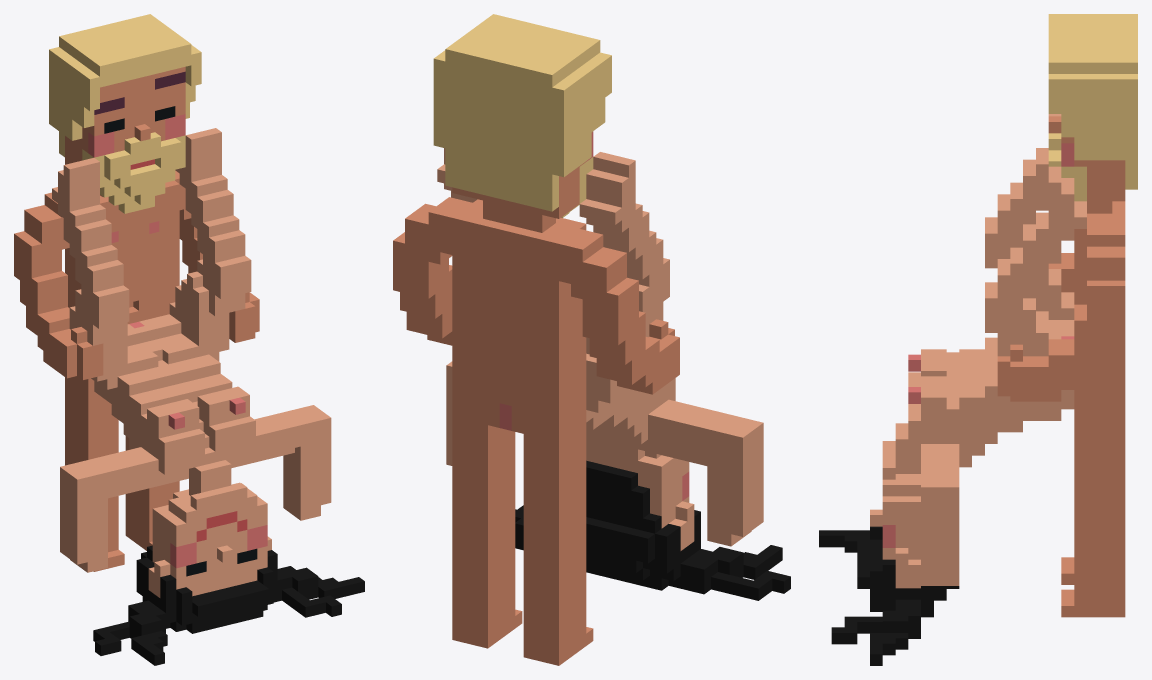
Rendered from kama36.glb.
3 renders of one model, left to right at view 1: azimuth 30°, elevation 25°; view 2: azimuth 150°, elevation 25°; view 3: azimuth 270°, elevation 25°, orthographic. The views are drawn at different scales.
Visible parts, largest first — view 1: Node; view 2: Node; view 3: Node.
Boxes of the visible parts, x1=… form: Node: x1=14, y1=14, x2=364, y2=665; Node: x1=393, y1=14, x2=790, y2=665; Node: x1=819, y1=14, x2=1137, y2=665.
Size of the model in its own units: 2.6 by 4.8 by 2.5.
1 material, 1 textured.
